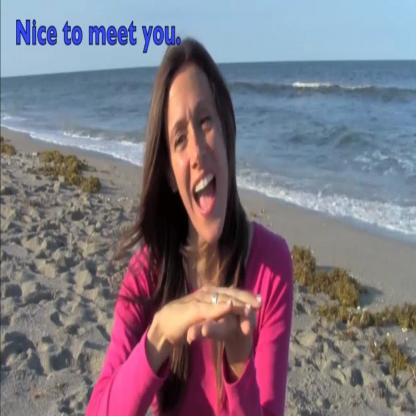NiceToMeetYou: (160, 280, 272, 366)
